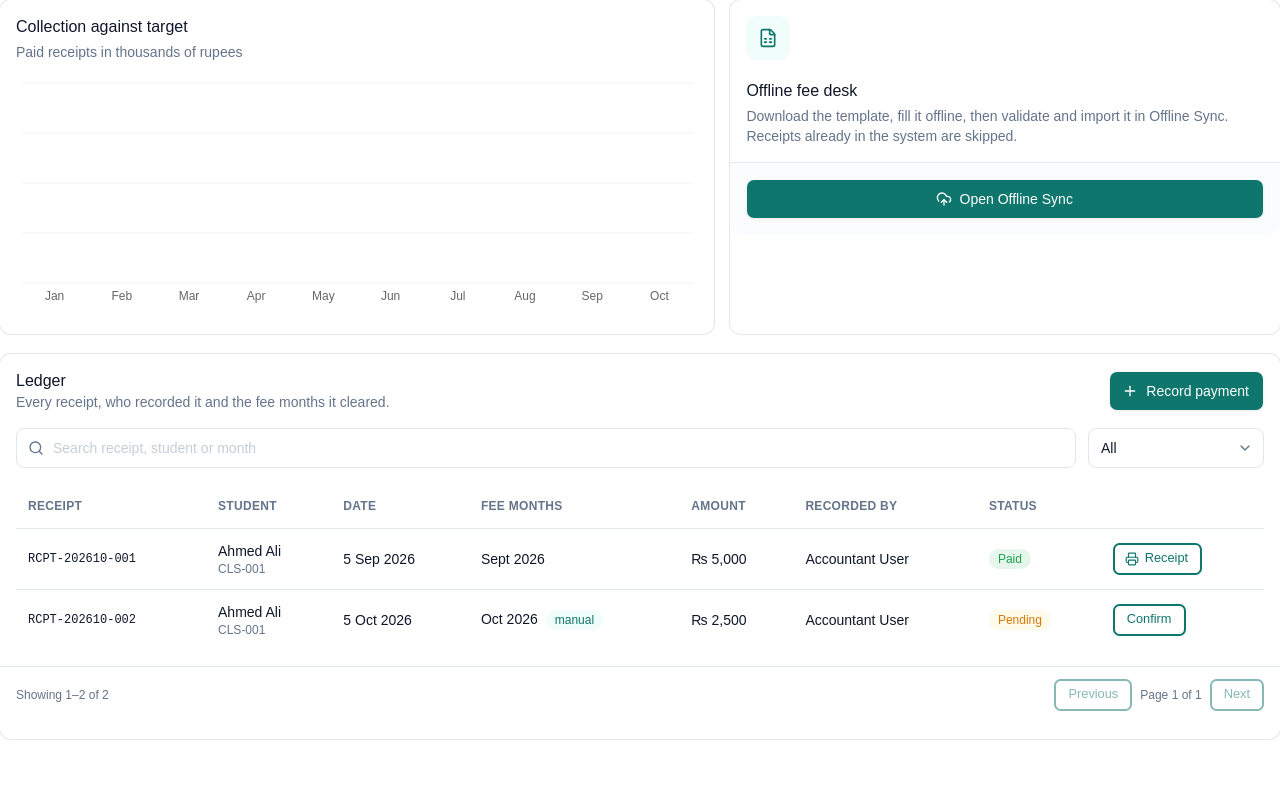
Test: Fees (Fee Ledger Tab) › filters ledger records by search query
Check: the text "RCPT-202610-001" is shown, box x1=16 y1=528 x2=206 y2=589
Type "RCPT-202610-002" into the field with placeholder "Search receipt, student or month" at (546, 448), box x1=16 y1=428 x2=1076 y2=468
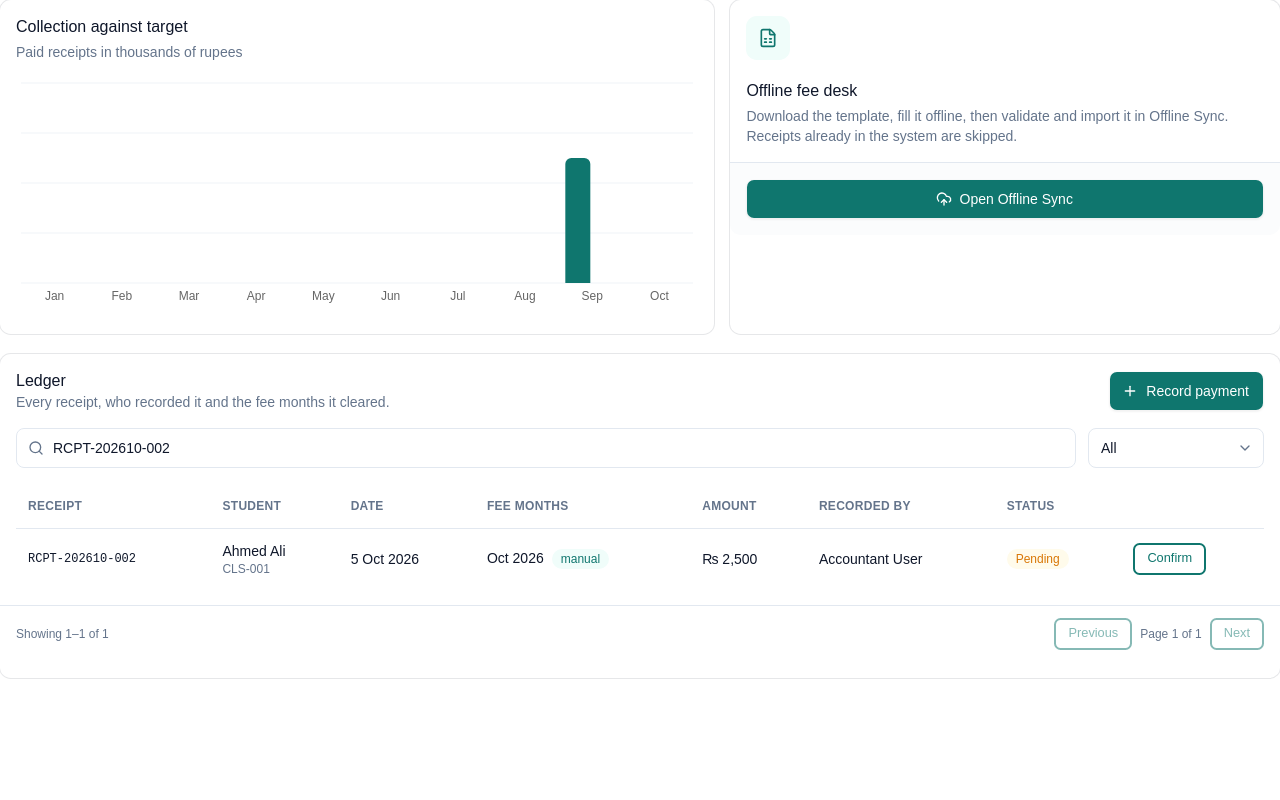
Check: the text "RCPT-202610-002" is shown, box x1=16 y1=528 x2=210 y2=588
Check: the text "RCPT-202610-001" is gone
